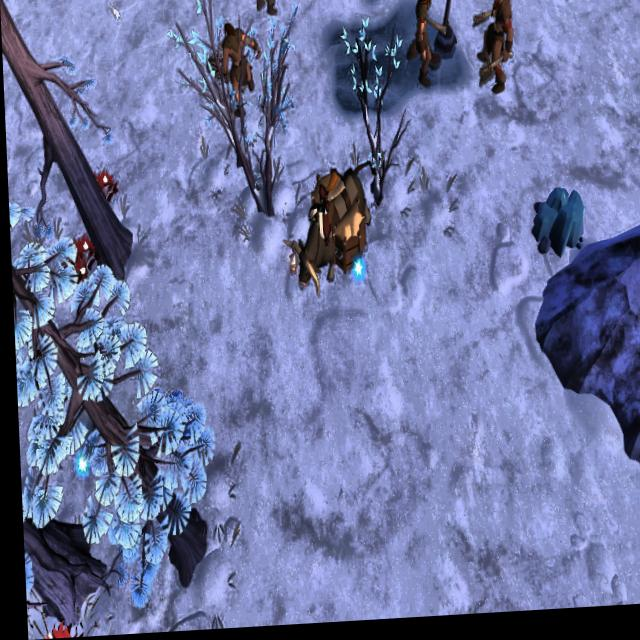enemy_factionKeeper: (478, 0, 519, 99), (402, 0, 448, 85), (217, 31, 258, 121), (246, 0, 279, 30)
fiber_t5: (62, 236, 99, 288), (85, 168, 116, 205)
rock_t4: (528, 192, 586, 267)
